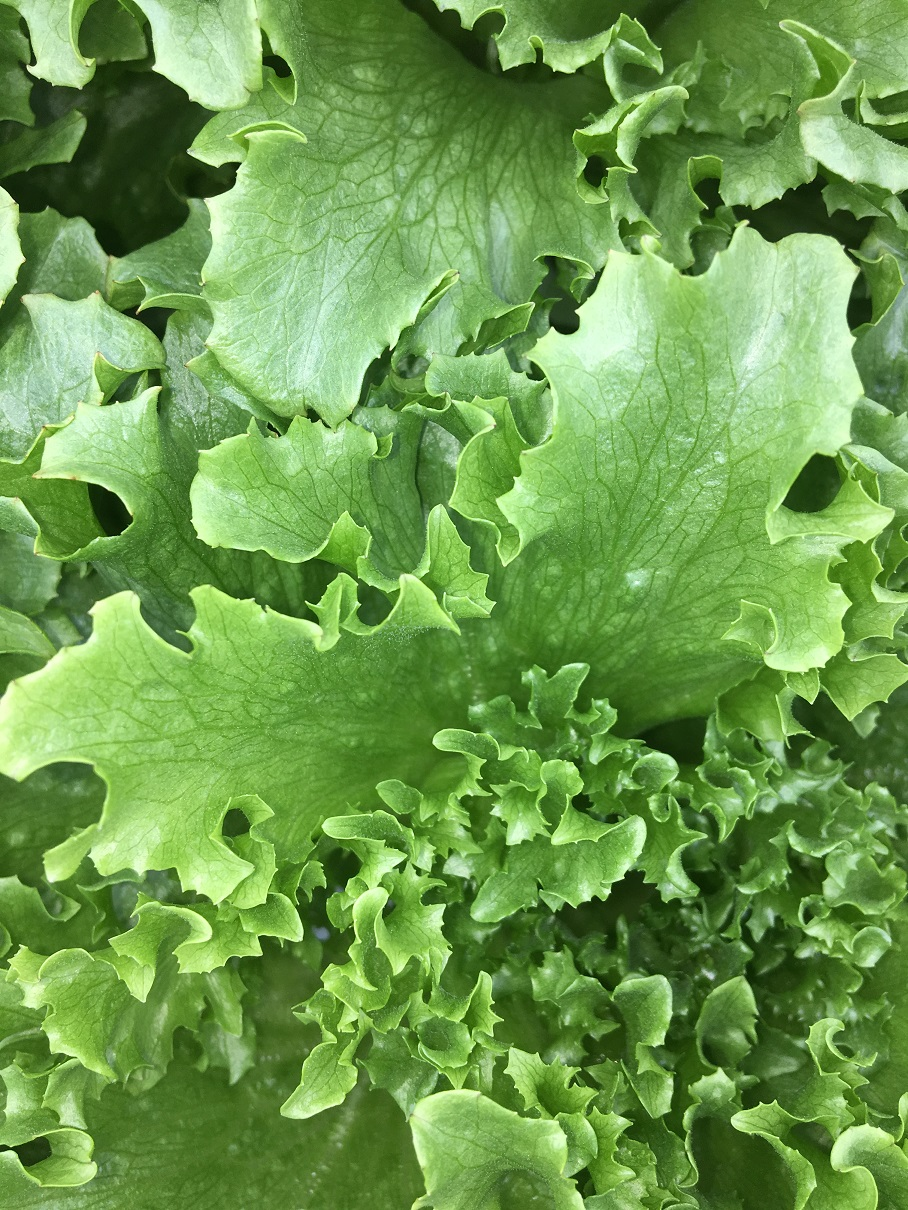tipburn: (53, 458, 92, 498), (82, 337, 119, 375), (26, 410, 62, 446), (78, 274, 112, 311), (787, 102, 810, 129), (446, 262, 471, 285), (174, 351, 194, 377)
